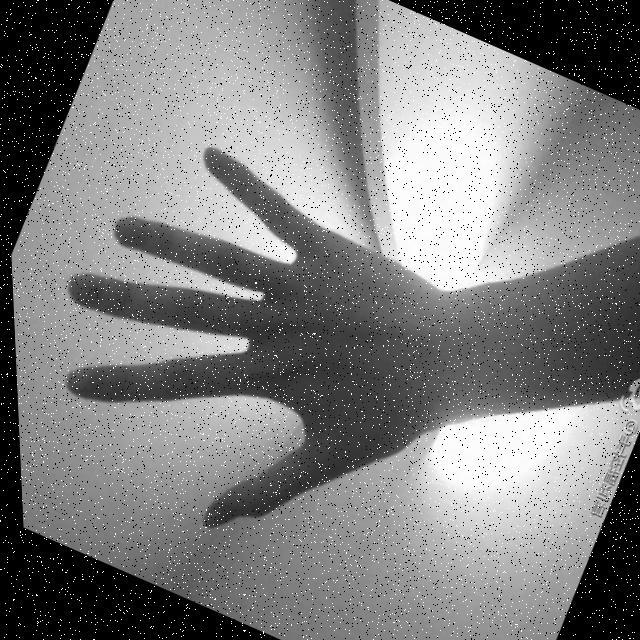no-gloves: (4, 111, 484, 588)
